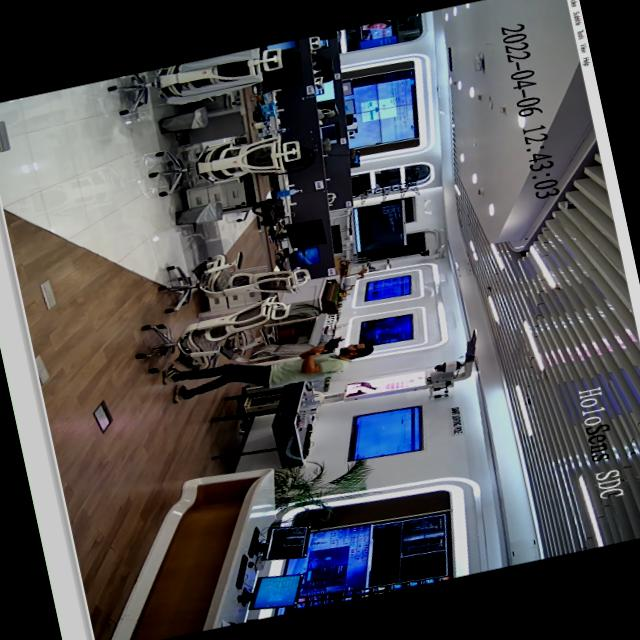long weapon: (298, 327, 354, 363)
